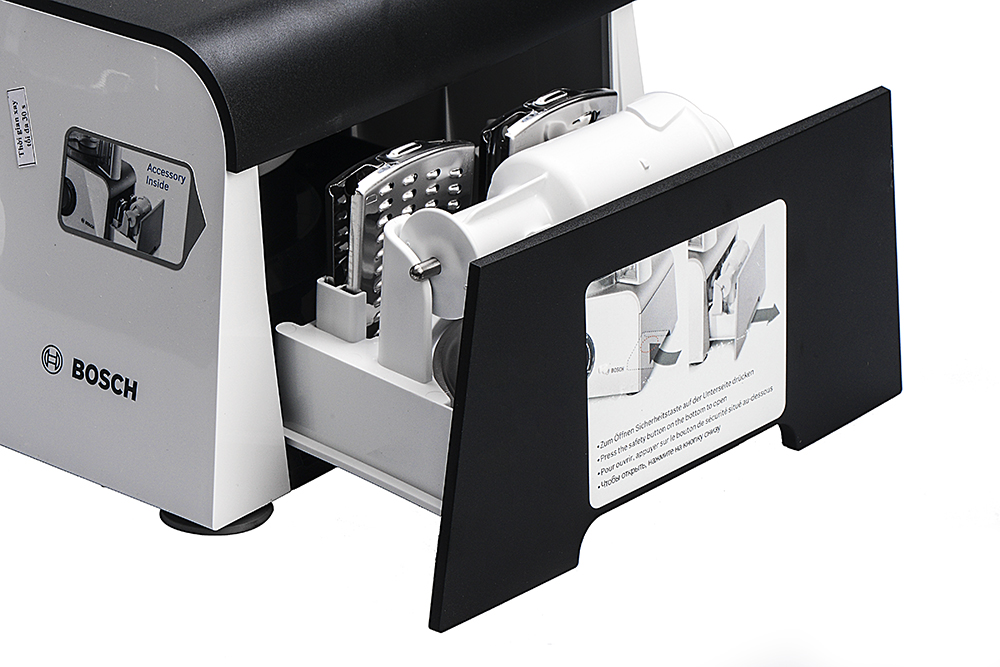Bosch: (66, 351, 147, 408)
